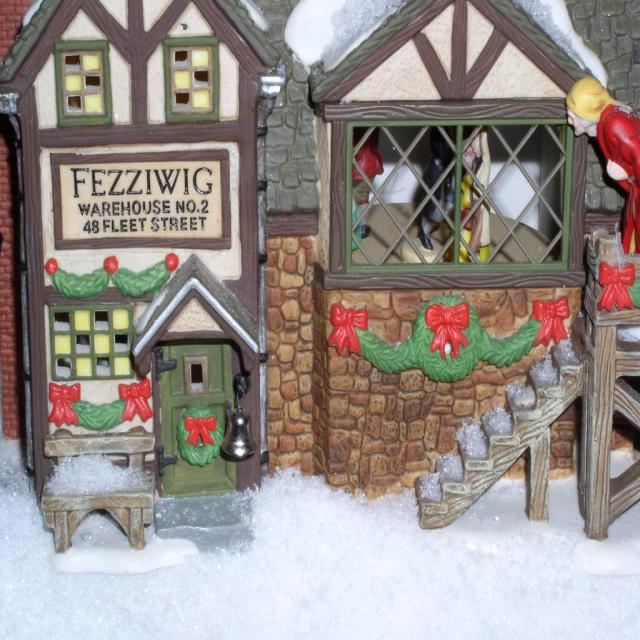Toy: (0, 0, 640, 562), (565, 77, 640, 254), (416, 123, 458, 257), (459, 127, 494, 266), (352, 128, 384, 238)
